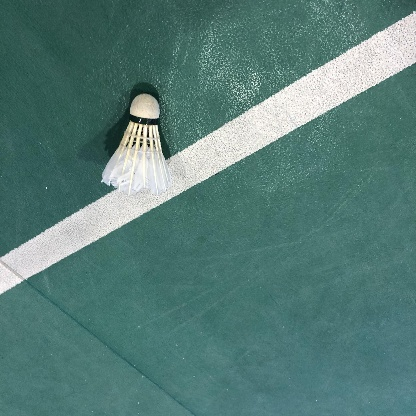ball_single: (102, 94, 171, 196)
